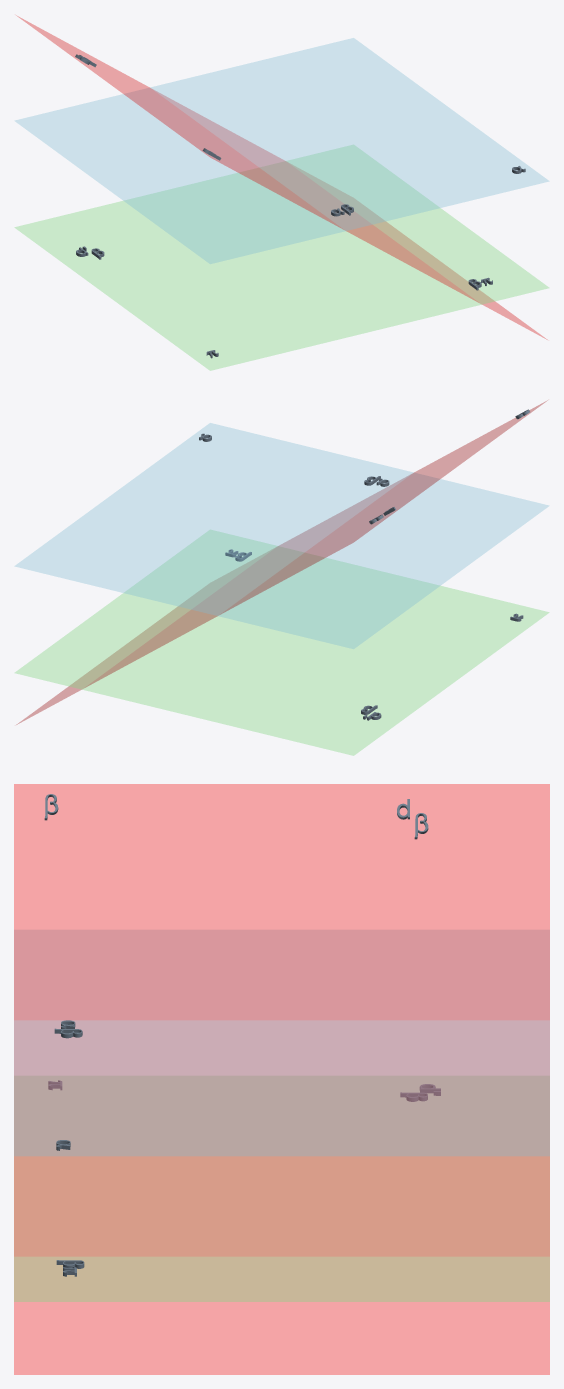
The model's file is int_pq_ph.glb.
The picture shows the model from 3 angles, top to bottom: view 1: azimuth 30°, elevation 25°; view 2: azimuth 150°, elevation 25°; view 3: azimuth 270°, elevation 25°; orthographic projection. The views are drawn at different scales.
Visible parts, largest first — view 1: root; view 2: root; view 3: root.
Boxes of the visible parts, x1,y1,x2,y2 form: root: (14, 15, 549, 370); root: (14, 400, 549, 755); root: (14, 784, 549, 1374).
Size of the model in its own units: 2.54 by 1.91 by 2.54.
